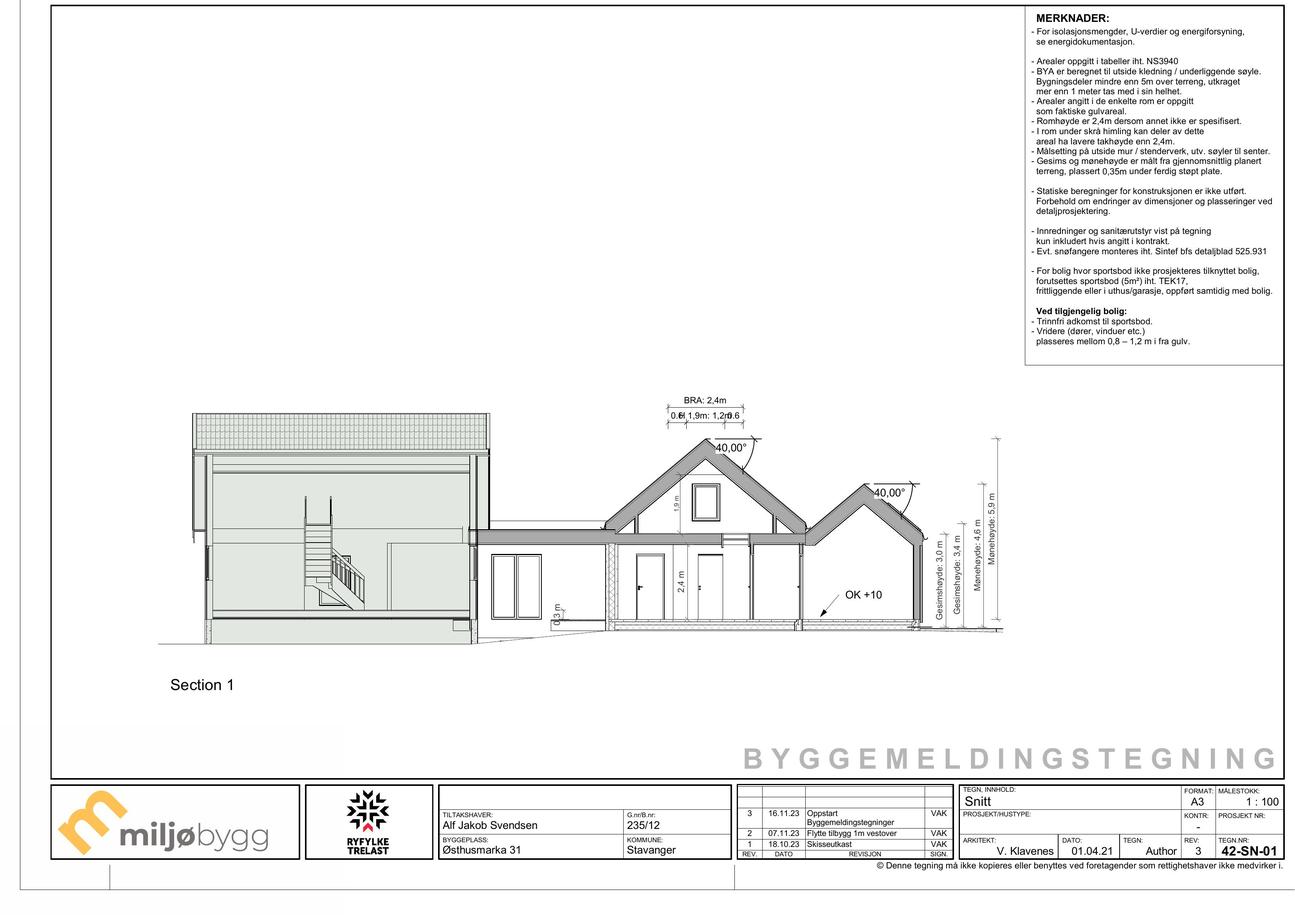snitt: (193, 412, 926, 646)
